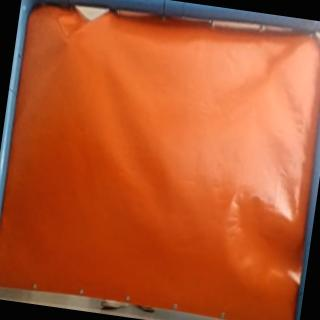Hit-hRxx: (59, 33, 74, 47)
